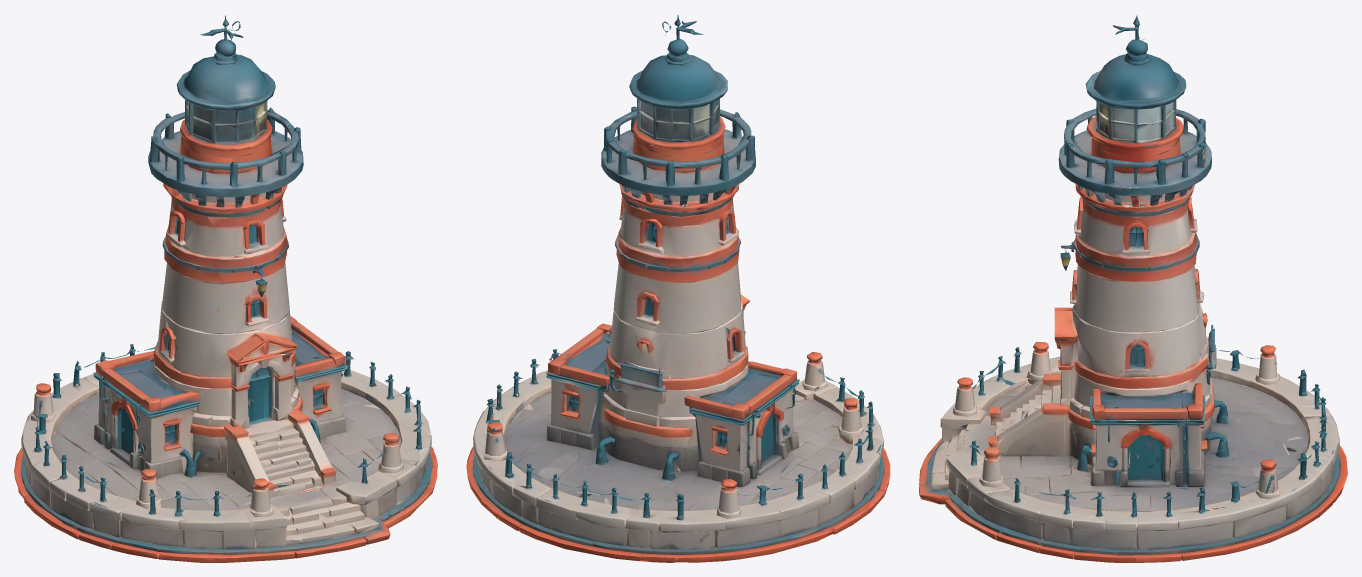
File: lighthouse-mobile.glb
3 renders of one model, left to right at view 1: azimuth 30°, elevation 25°; view 2: azimuth 150°, elevation 25°; view 3: azimuth 270°, elevation 25°, orthographic.
Visible parts, largest first — view 1: model; view 2: model; view 3: model.
Part boxes in pixels (x1,y1,x2,y2): model: (14,15,437,562); model: (466,15,890,562); model: (919,15,1347,562).
Size of the model in its own units: 1.58 by 1.9 by 1.6.
1 material, 1 textured.
